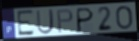2: (96, 5, 114, 32)
E: (16, 9, 35, 38)
O: (115, 5, 134, 31)
P: (76, 6, 95, 34), (56, 8, 75, 34)
U: (35, 8, 56, 36)
